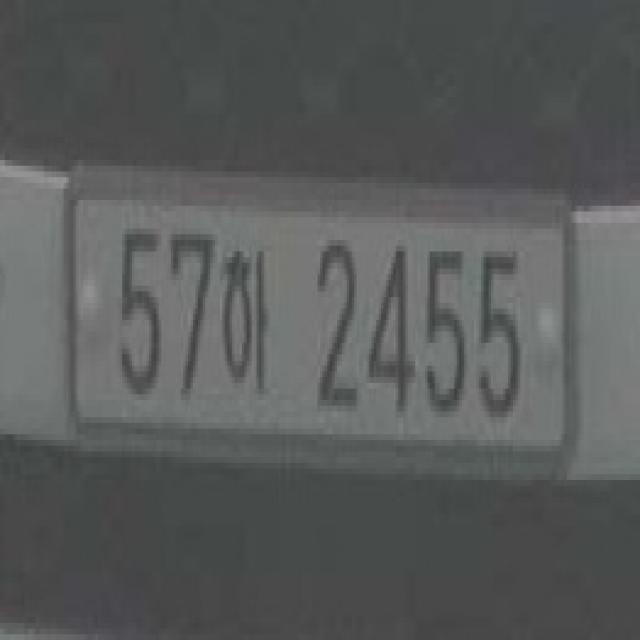2: (312, 226, 360, 414)
4: (366, 228, 415, 418)
5: (476, 232, 525, 421), (114, 216, 164, 398), (423, 233, 470, 424)
7: (170, 221, 214, 395)
ha: (220, 226, 272, 396)
license_plate: (62, 152, 584, 483)
